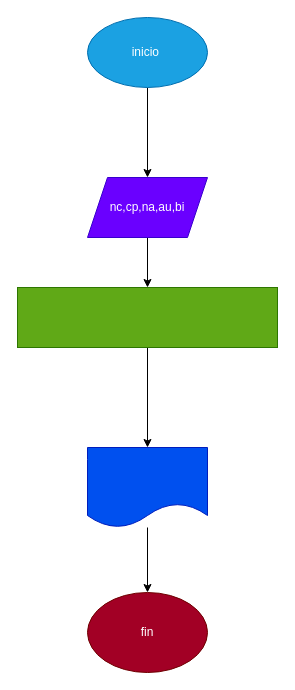
The diagram is 295 pixels wide and 690 high, and some of its shapes have lost their labels. Here are the shapes that lost their labels. From the top down, the centre of each, then its label:
At (x=147, y=317): "nd:o.3*nc+03*np+o.1*au+o.2*bi".
At (x=147, y=487): "nd".
